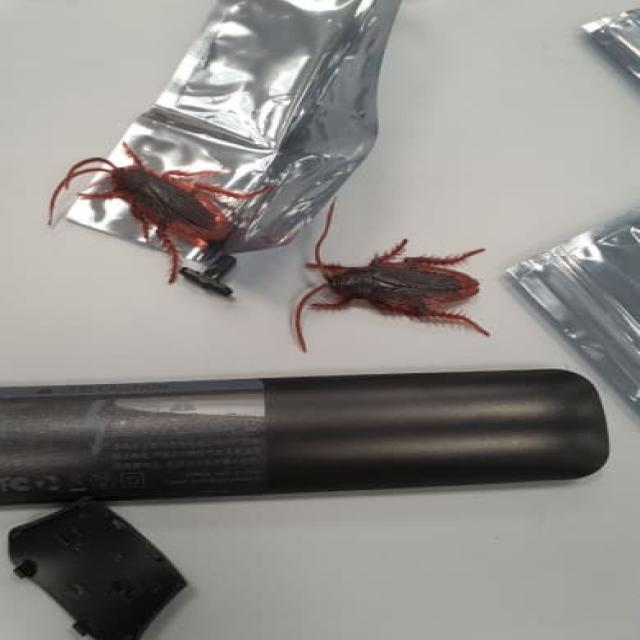Cockroach: (51, 134, 264, 291), (286, 217, 478, 356)
